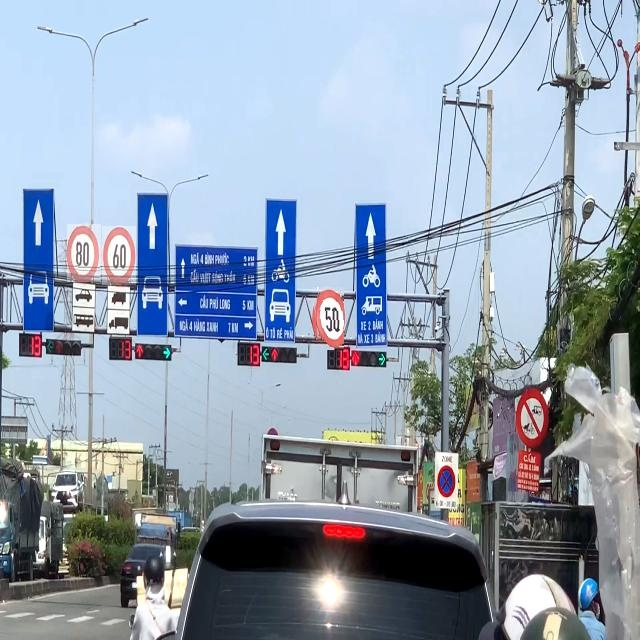bien_chi_dan: (312, 287, 344, 350), (102, 226, 136, 285), (67, 224, 101, 282), (437, 464, 456, 498)
